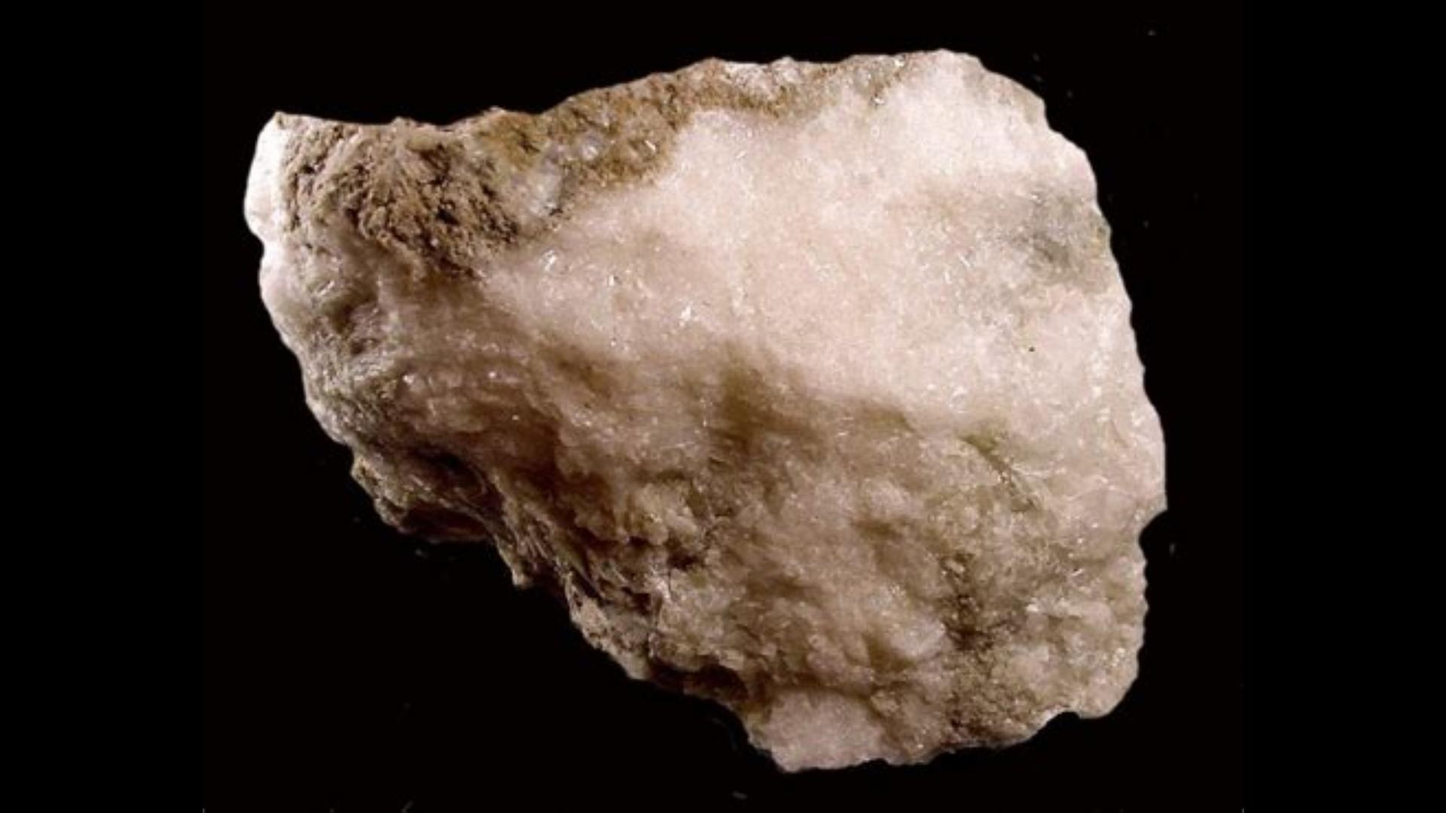rock: (246, 53, 1160, 765)
